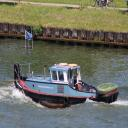tugboat: (13, 27, 121, 112)
